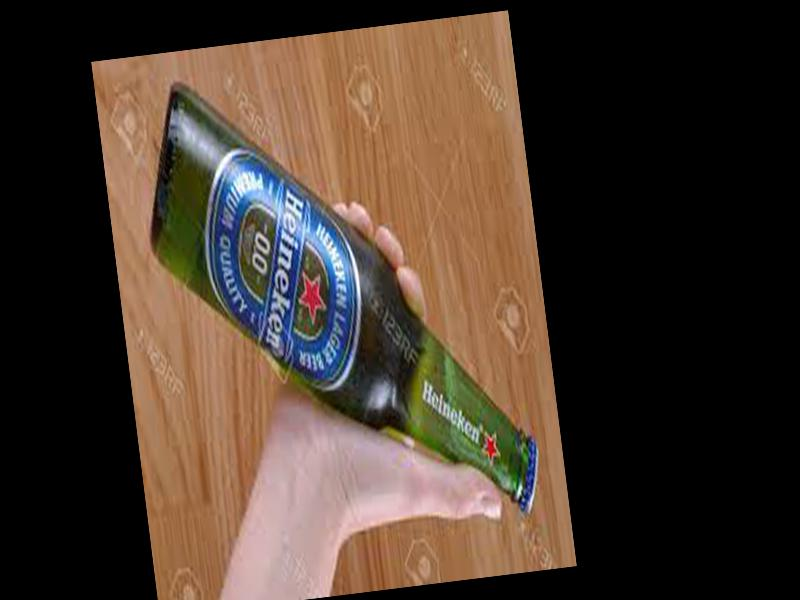Beer: (129, 46, 546, 553)
